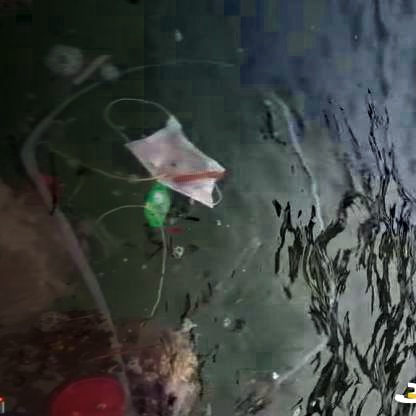Mask: (92, 93, 273, 222)
